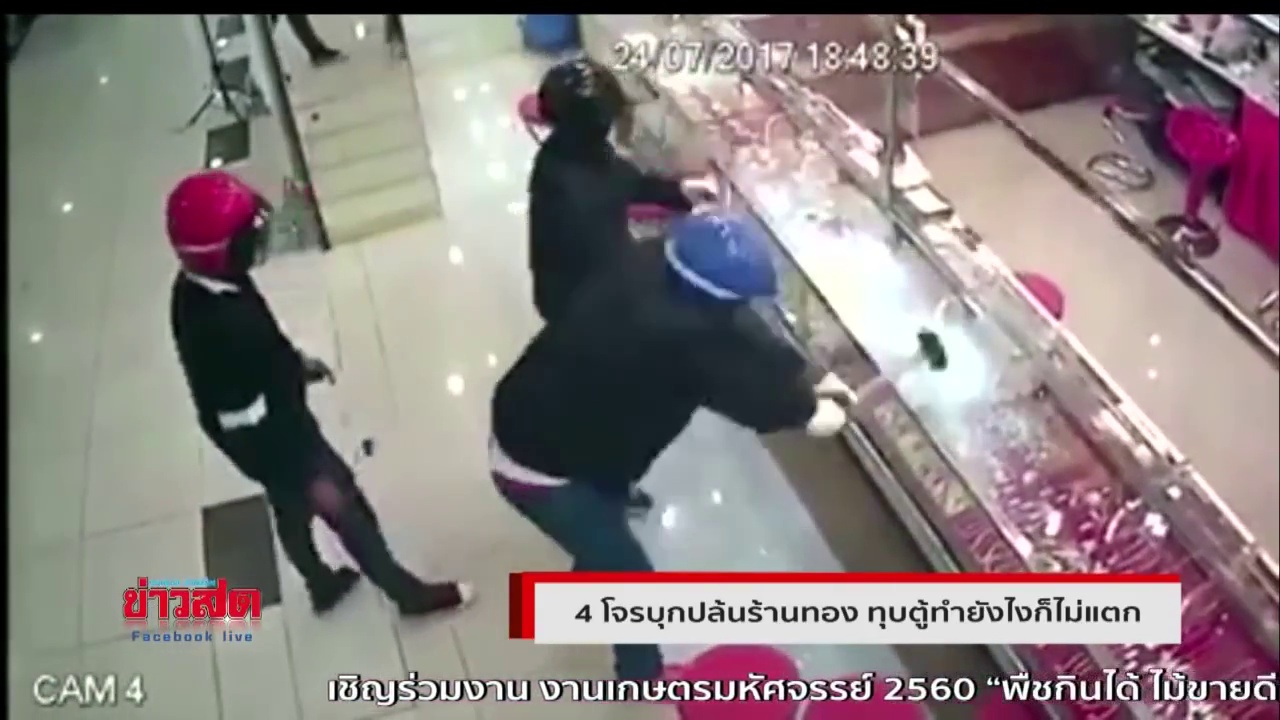helmet: (157, 162, 278, 282), (664, 205, 775, 325), (530, 56, 635, 145)
